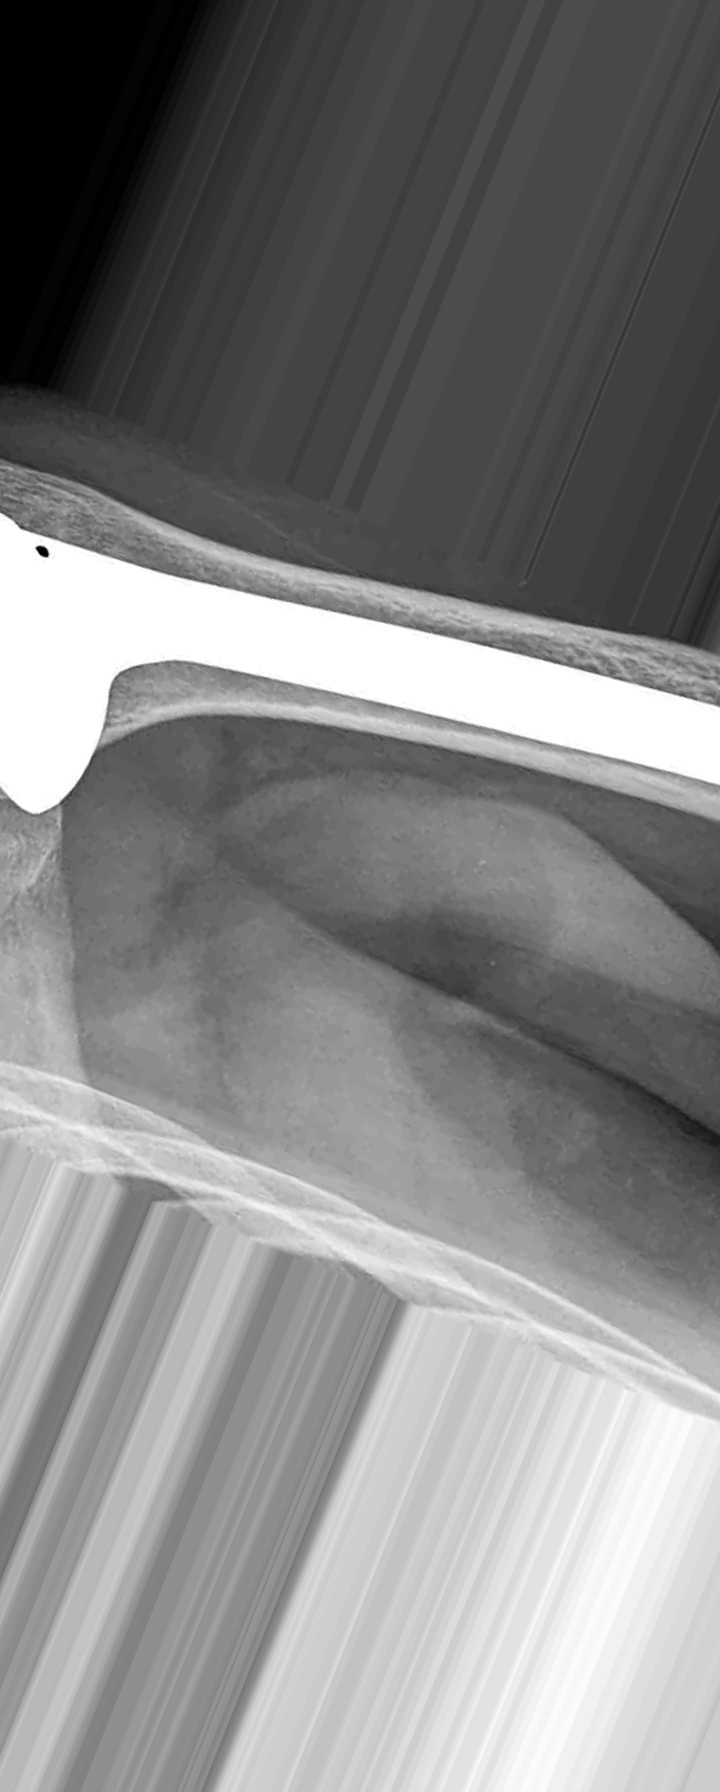Shoulder-Reverse-DJO: (3, 470, 719, 838)
